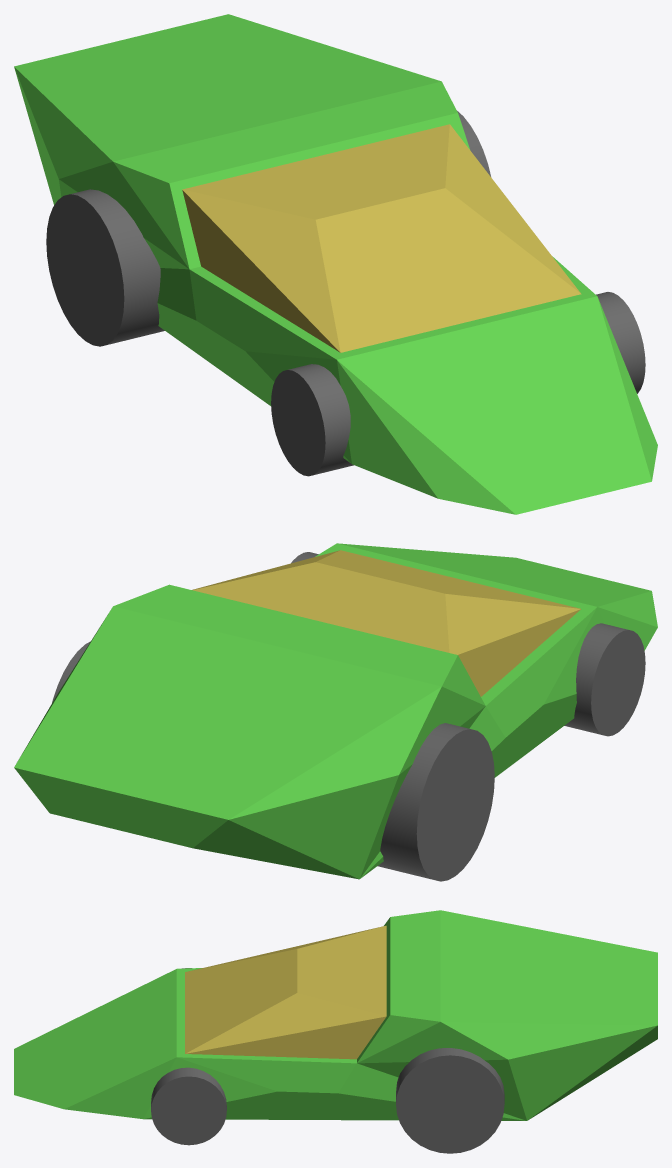
The model's file is WedgeCar.glb.
3 views of the same model, one above another, from view 1: azimuth 30°, elevation 25°; view 2: azimuth 150°, elevation 25°; view 3: azimuth 270°, elevation 25° (orthographic). The views are drawn at different scales.
Visible parts, largest first — view 1: _WedgeCar; view 2: _WedgeCar; view 3: _WedgeCar.
Part boxes in pixels (<box>): _WedgeCar: <box>14,14,657,514</box>; _WedgeCar: <box>14,543,657,881</box>; _WedgeCar: <box>14,910,657,1153</box>.
Size of the model in its own units: 2.84 by 1.32 by 6.15.
